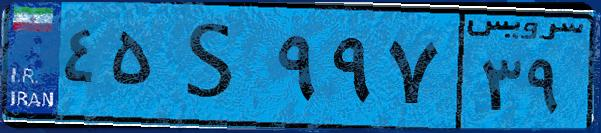3: (475, 38, 525, 113)
4: (57, 26, 110, 100)
5: (110, 28, 158, 98)
7: (385, 28, 445, 110)
9: (270, 28, 330, 110), (330, 28, 385, 110), (525, 38, 570, 115)
S: (158, 12, 270, 120)
